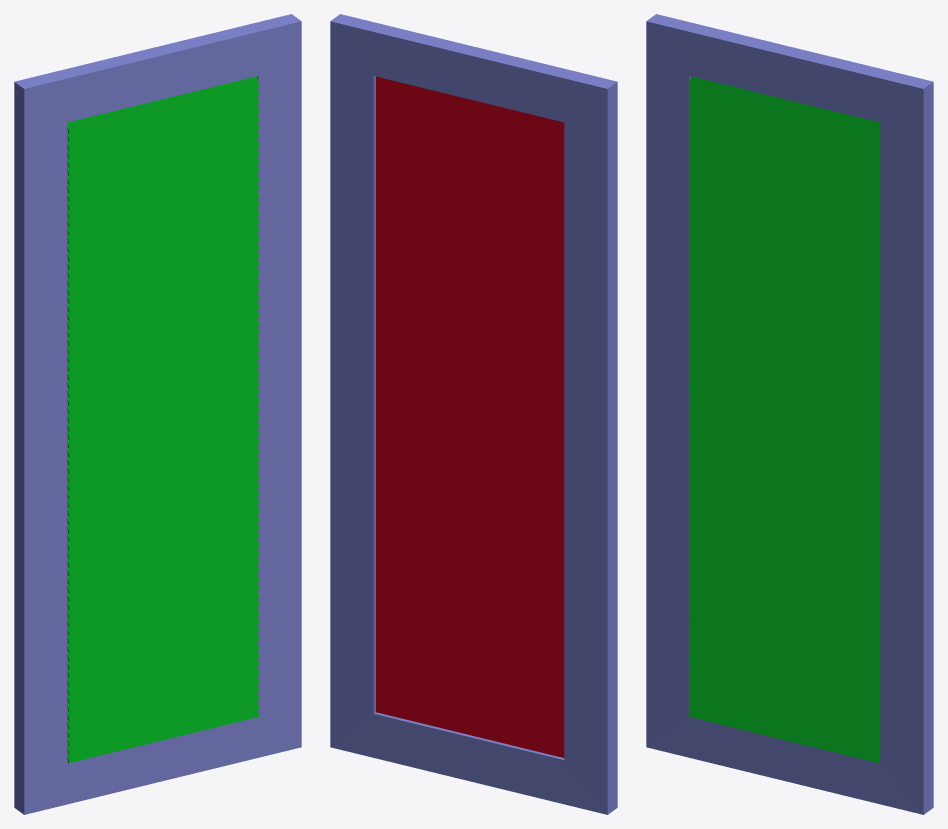
Rendered from dvereChodbaKonec.fbx.
The picture shows the model from 3 angles, left to right: view 1: azimuth 30°, elevation 25°; view 2: azimuth 150°, elevation 25°; view 3: azimuth 330°, elevation 25°; orthographic projection.
Visible parts, largest first — view 1: Dvere2; view 2: Dvere2; view 3: Dvere2.
Part boxes in pixels (x1,y1,x2,y2): Dvere2: (14, 14, 301, 814); Dvere2: (330, 14, 617, 814); Dvere2: (646, 14, 933, 814).
Bounding box in the file's own units: 80 × 200 × 5.67.
